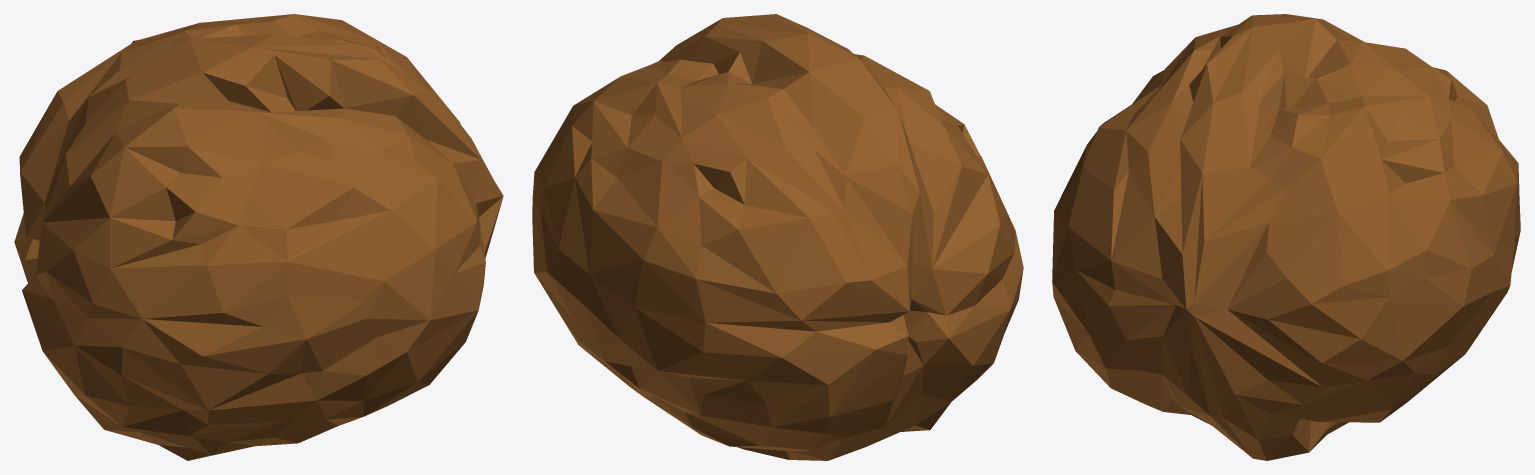
File: walnut1pc.fbx
3 views of the same model, side by side, from view 1: azimuth 30°, elevation 25°; view 2: azimuth 150°, elevation 25°; view 3: azimuth 270°, elevation 25° (orthographic).
Parts seen in each view (by area): view 1: nut scan.004; view 2: nut scan.004; view 3: nut scan.004.
Boxes of the visible parts, box(x1,y1,x2,y2) form: nut scan.004: box(14, 14, 503, 460); nut scan.004: box(532, 14, 1023, 460); nut scan.004: box(1052, 14, 1520, 460).
Bounding box in the file's own units: 15.91 × 14.22 × 15.2.
